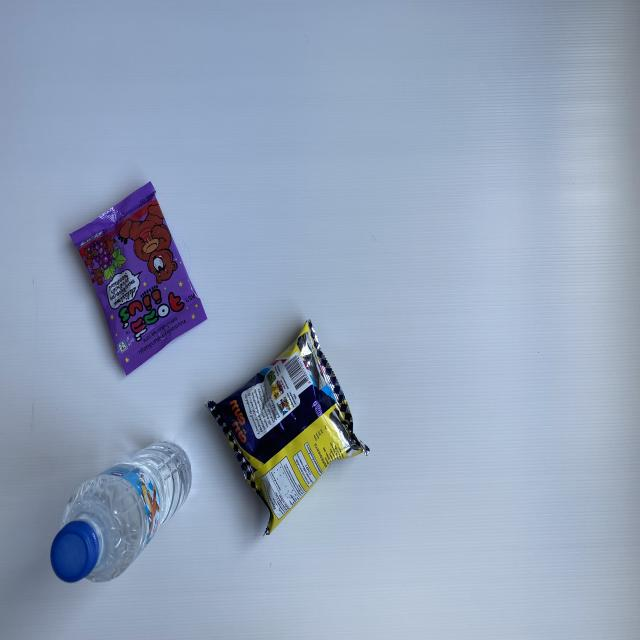candy: (65, 181, 210, 383)
snack: (202, 315, 374, 540)
water: (50, 436, 196, 587)
